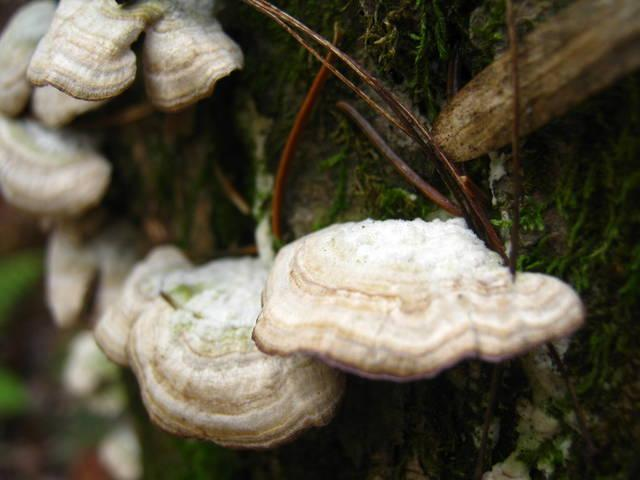Non-edible Mushroom: (0, 0, 245, 480), (250, 214, 586, 382), (92, 242, 346, 450)
